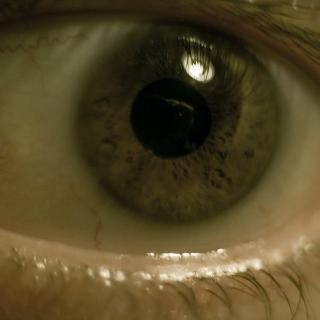iris: (71, 14, 280, 223)
